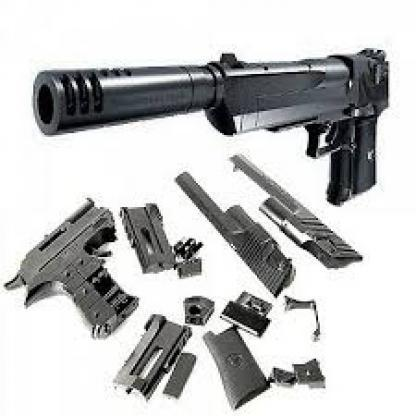Pistol: (28, 33, 398, 222)
